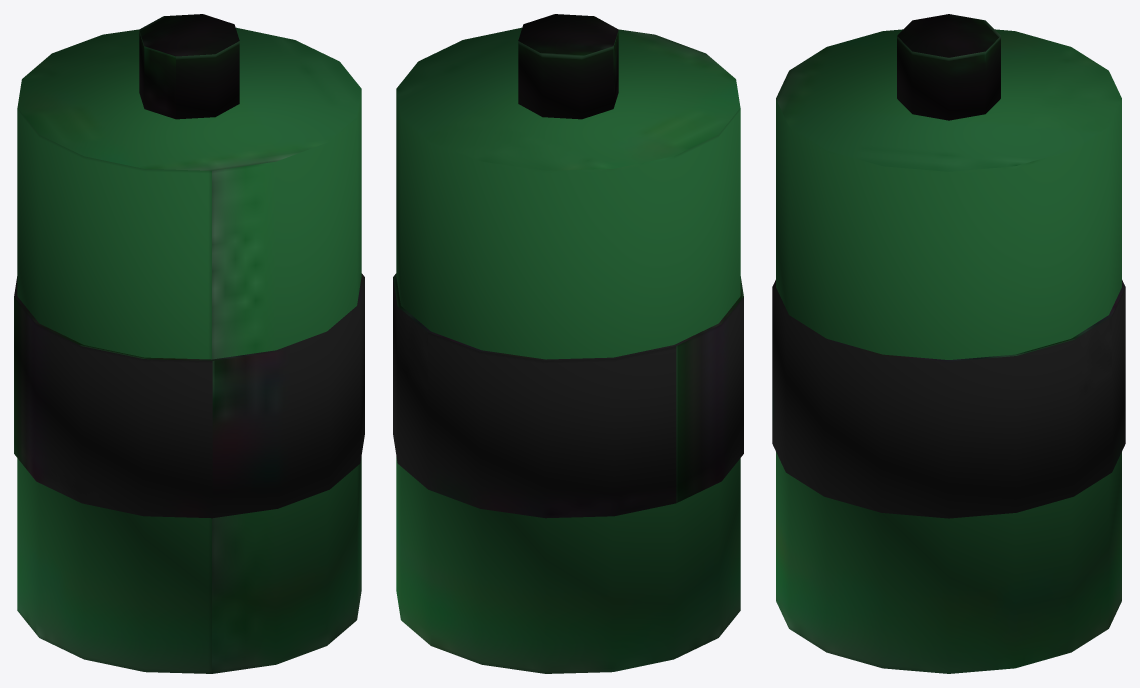
File: battery.glb
The picture shows the model from 3 angles, left to right: view 1: azimuth 30°, elevation 25°; view 2: azimuth 150°, elevation 25°; view 3: azimuth 270°, elevation 25°; orthographic projection.
Visible parts, largest first — view 1: Main; view 2: Main; view 3: Main.
Part boxes in pixels (x1=…): Main: x1=14, y1=14, x2=364, y2=673; Main: x1=393, y1=14, x2=743, y2=673; Main: x1=772, y1=14, x2=1125, y2=673.
Size of the model in its own units: 0.102 by 0.18 by 0.102.
Materials: 1 (1 with a texture image).
